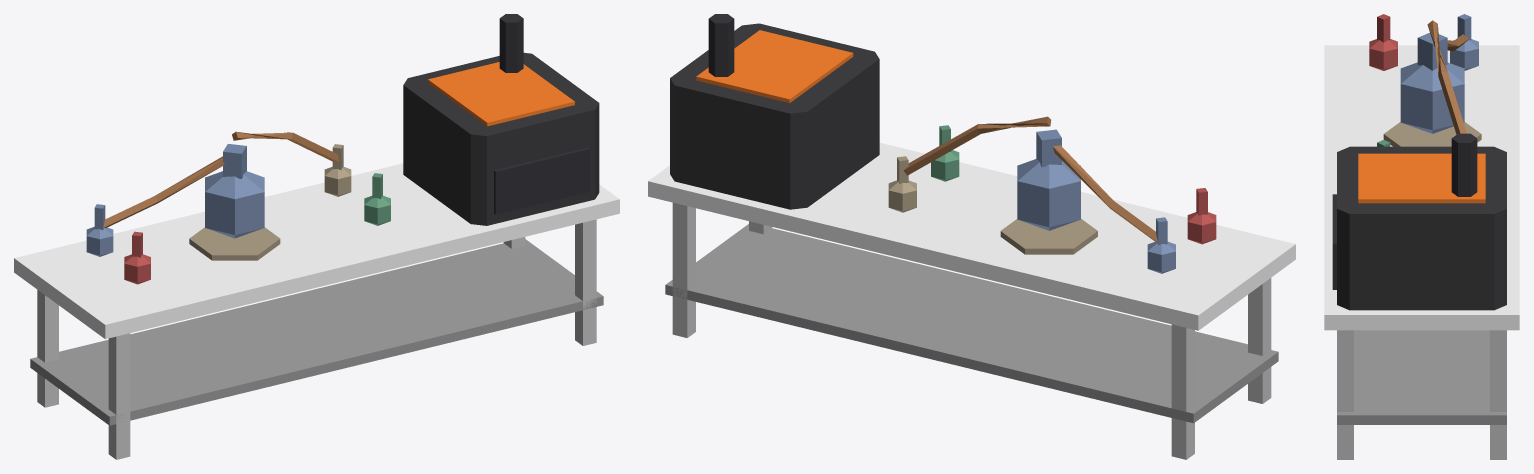
The model's file is vfem2_draught_lab.obj.
3 views of the same model, side by side, from view 1: azimuth 30°, elevation 25°; view 2: azimuth 150°, elevation 25°; view 3: azimuth 270°, elevation 25° (orthographic). The views are drawn at different scales.
Parts seen in each view (by area): view 1: vfem2_draught_lab; view 2: vfem2_draught_lab; view 3: vfem2_draught_lab.
Boxes of the visible parts, bbox=[...] form: vfem2_draught_lab: bbox=[14, 14, 619, 459]; vfem2_draught_lab: bbox=[648, 14, 1295, 459]; vfem2_draught_lab: bbox=[1324, 14, 1519, 459].
Size of the model in its own units: 3 by 1.6 by 0.92.
